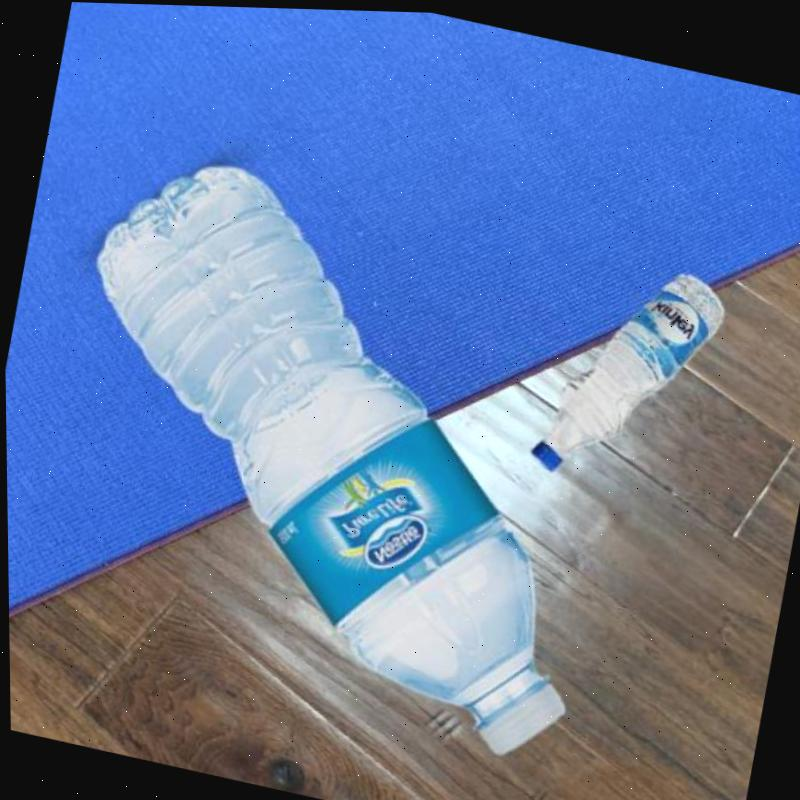botella: (13, 133, 662, 774), (525, 238, 735, 499)
